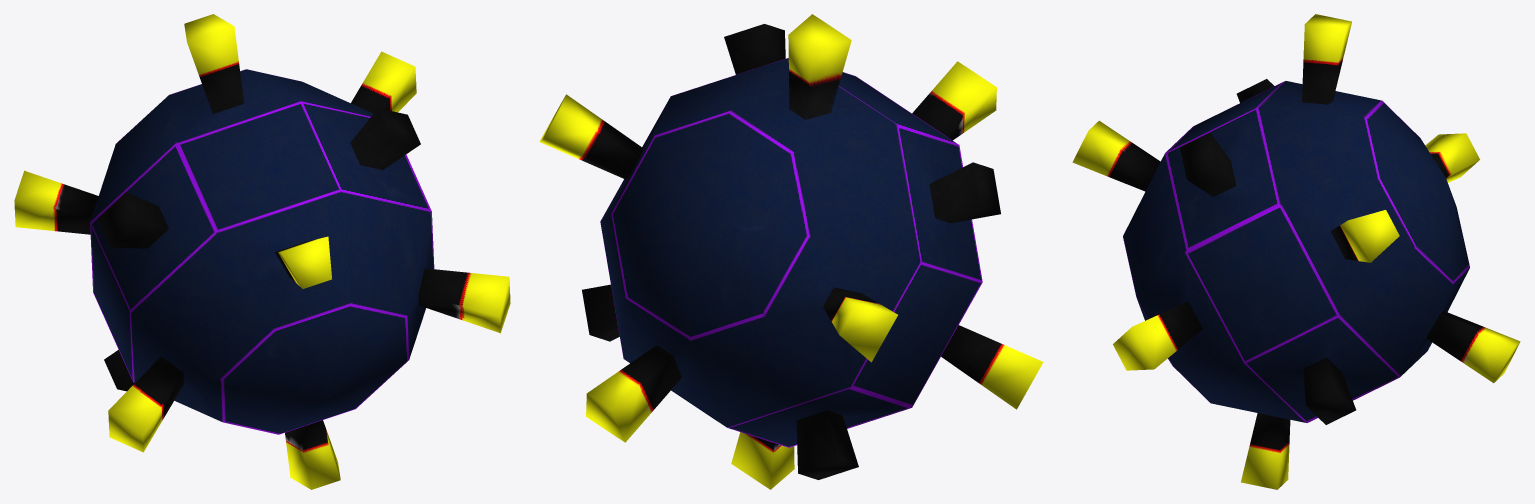
The model's file is Bom_Unity.fbx.
3 renders of one model, left to right at view 1: azimuth 30°, elevation 25°; view 2: azimuth 150°, elevation 25°; view 3: azimuth 270°, elevation 25°, orthographic. The views are drawn at different scales.
Parts seen in each view (by area): view 1: pSphere1; view 2: pSphere1; view 3: pSphere1.
Part boxes in pixels (box(x1,y1,x2,y2)): pSphere1: box(14, 14, 510, 489); pSphere1: box(539, 14, 1043, 489); pSphere1: box(1072, 14, 1520, 489).
Bounding box in the file's own units: 2.43 × 2.74 × 2.57.
1 material, 1 textured.
